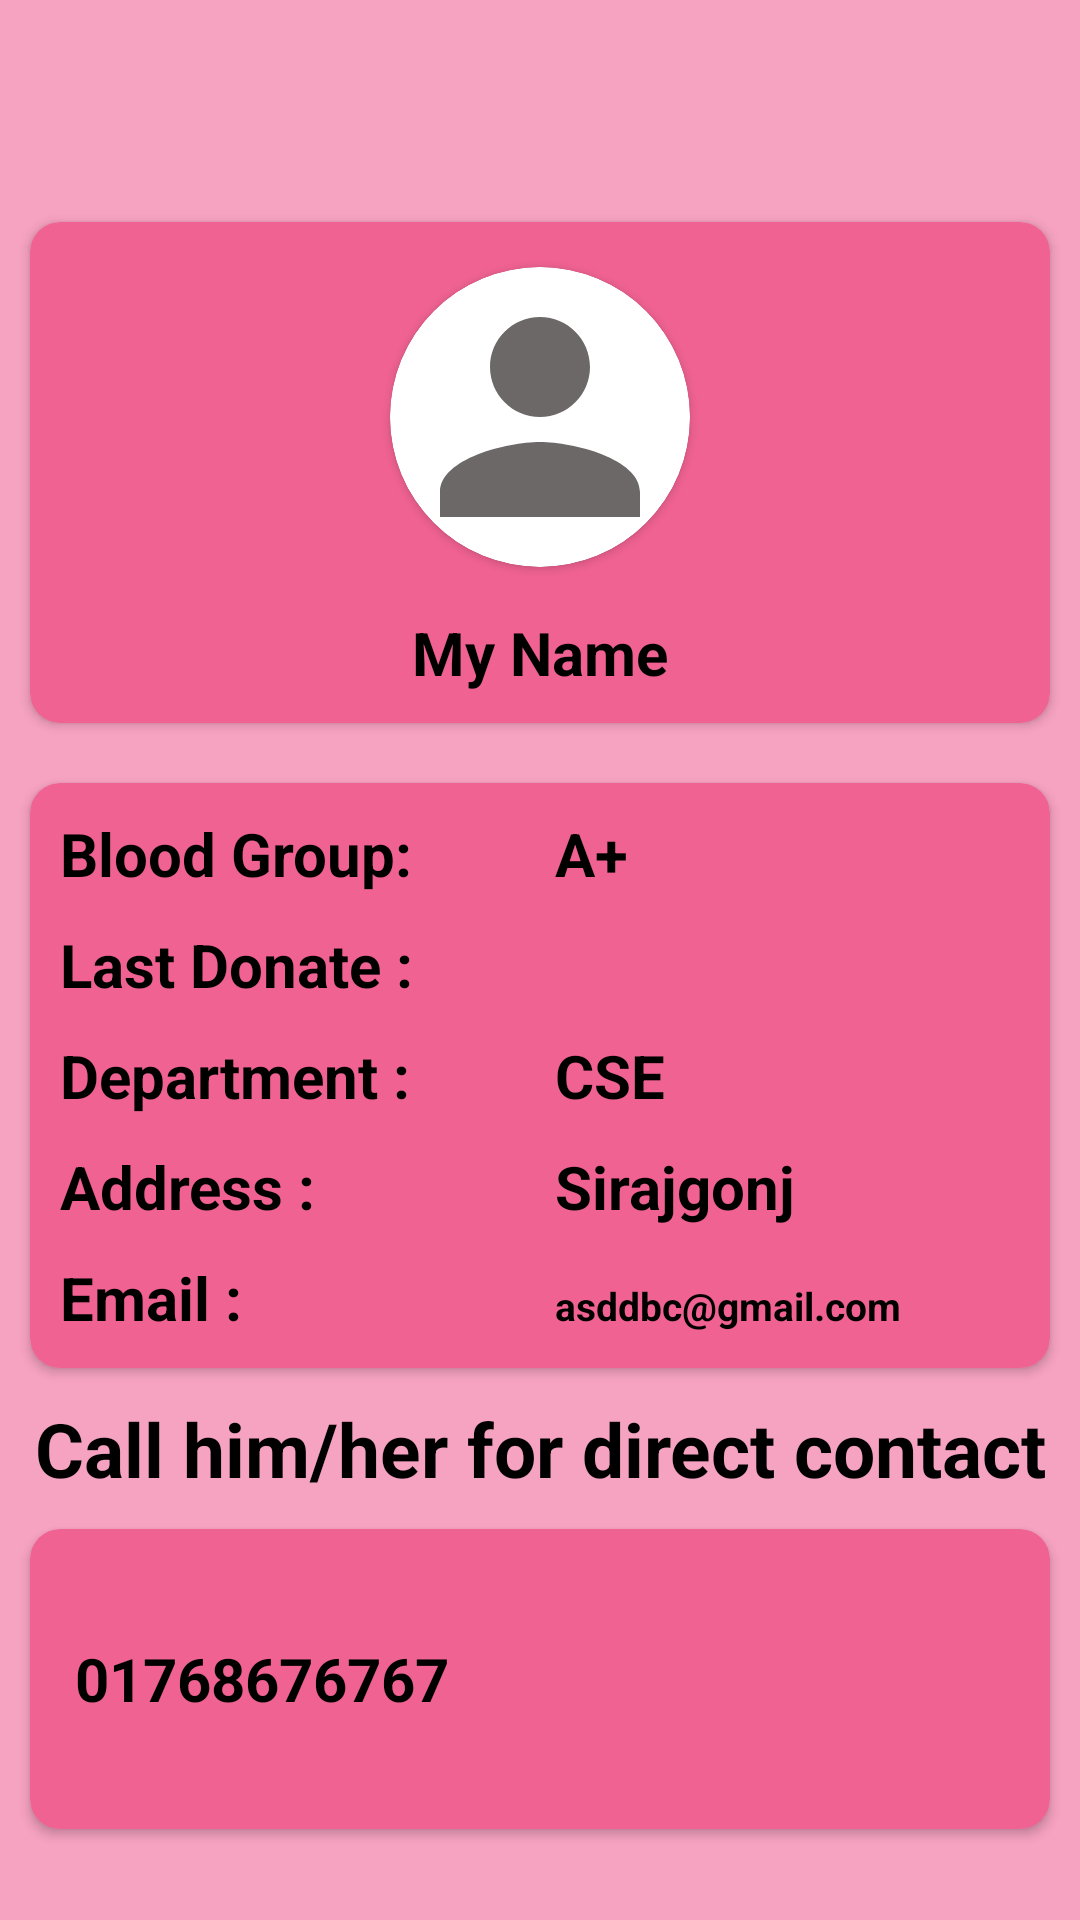

Where icons sit on this 1080*1920 app screen, as Rect(x1, y1, x2, y2):
person: Rect(390, 267, 690, 567)
